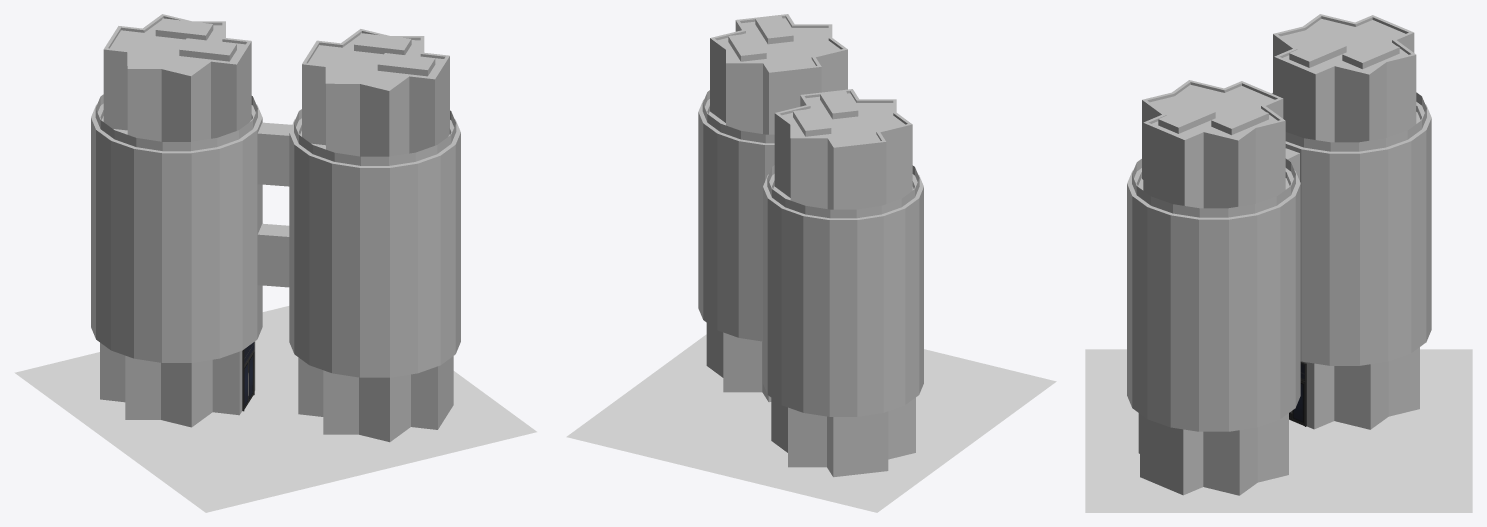
The model's file is Office_Block_lvl_5.fbx.
3 renders of one model, left to right at view 1: azimuth 30°, elevation 25°; view 2: azimuth 150°, elevation 25°; view 3: azimuth 270°, elevation 25°, orthographic. The views are drawn at different scales.
Visible parts, largest first — view 1: Office_Block_lvl_5, Office_Block_BG, Office_Block_lvl_5_Fence, Door; view 2: Office_Block_lvl_5, Office_Block_BG, Office_Block_lvl_5_Fence; view 3: Office_Block_lvl_5, Office_Block_BG, Office_Block_lvl_5_Fence, Door.
Part boxes in pixels (left/top/right/bottom): Office_Block_lvl_5: left=91, top=14, right=460, bottom=442; Office_Block_BG: left=14, top=306, right=536, bottom=512; Office_Block_lvl_5_Fence: left=95, top=94, right=456, bottom=165; Door: left=242, top=342, right=254, bottom=411; Office_Block_lvl_5: left=698, top=14, right=923, bottom=477; Office_Block_BG: left=566, top=334, right=1056, bottom=512; Office_Block_lvl_5_Fence: left=702, top=90, right=919, bottom=218; Office_Block_lvl_5: left=1127, top=14, right=1431, bottom=495; Office_Block_BG: left=1085, top=349, right=1472, bottom=512; Office_Block_lvl_5_Fence: left=1132, top=92, right=1426, bottom=217; Door: left=1289, top=361, right=1306, bottom=426.
Size of the model in its own units: 2000 by 2036 by 2000.
